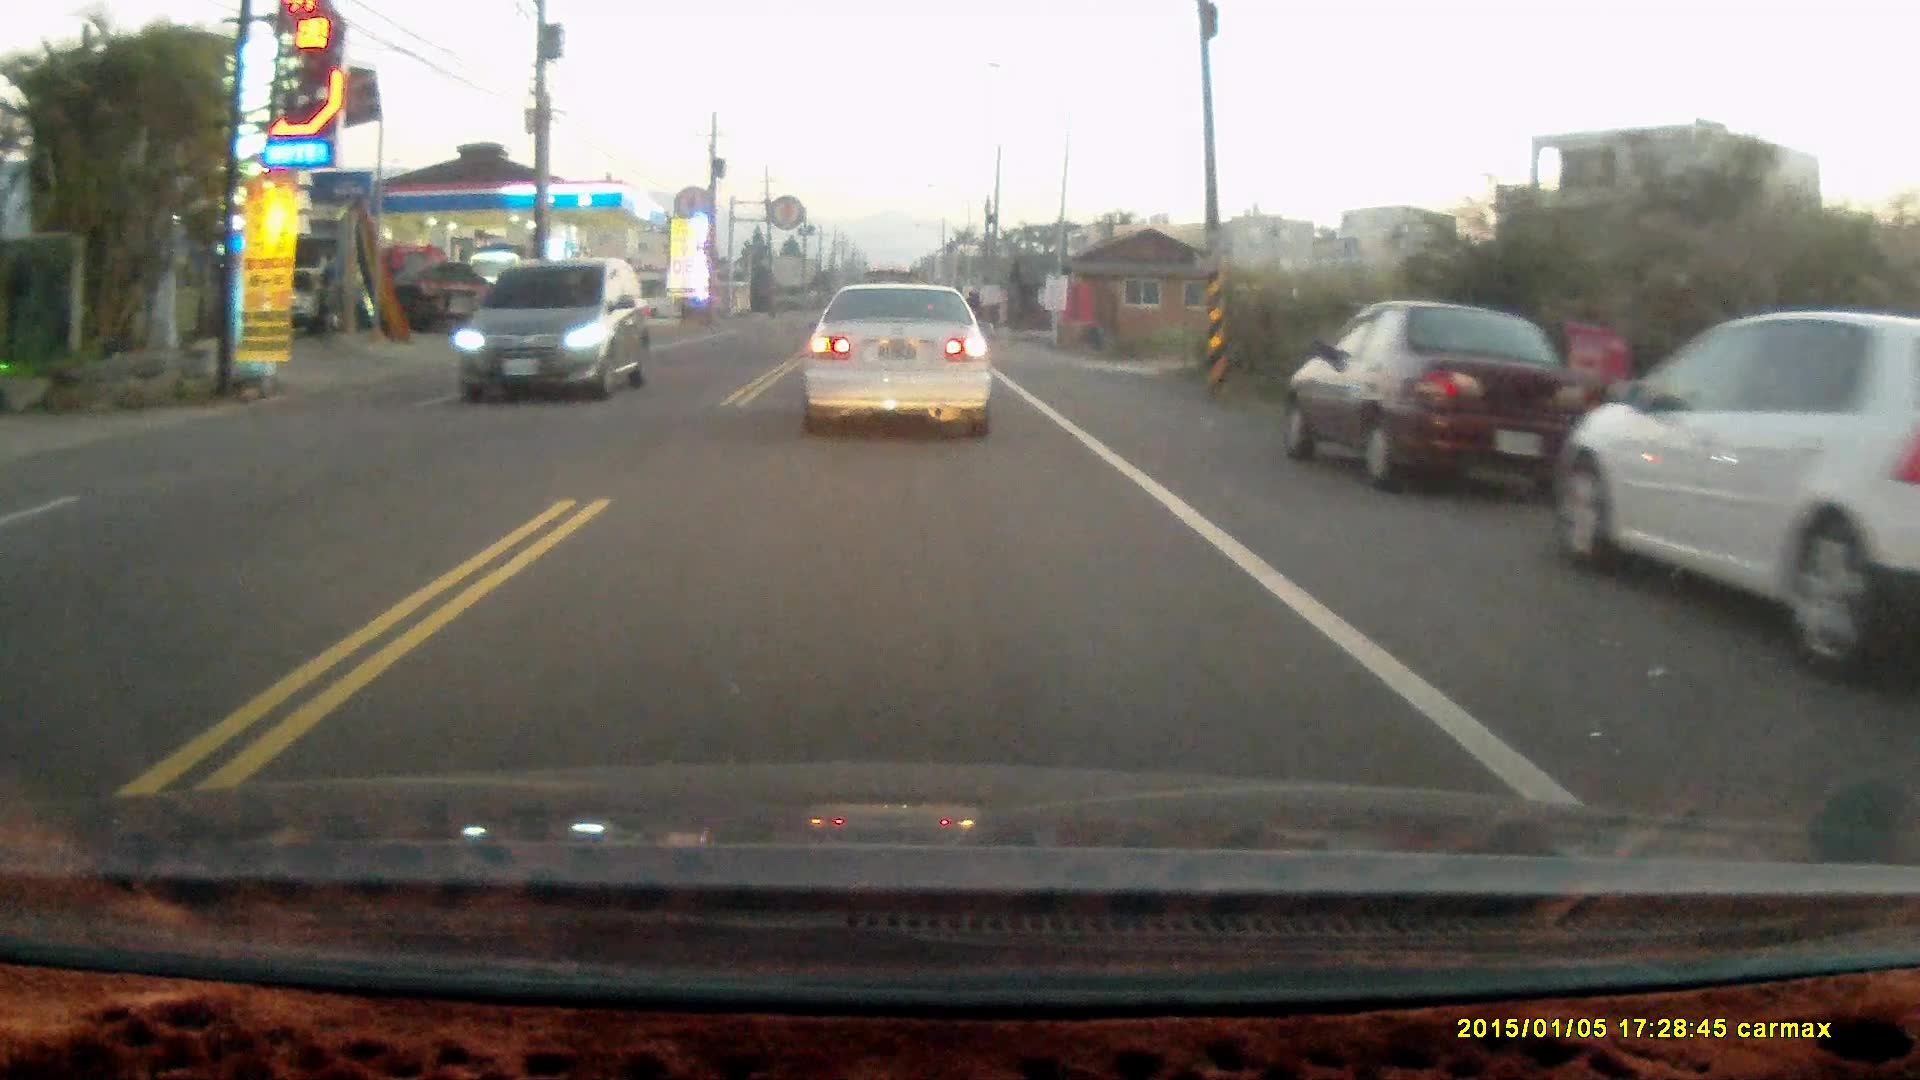vehicle: (1545, 309, 1920, 703), (1282, 299, 1602, 495), (796, 280, 996, 444), (459, 255, 653, 402)
